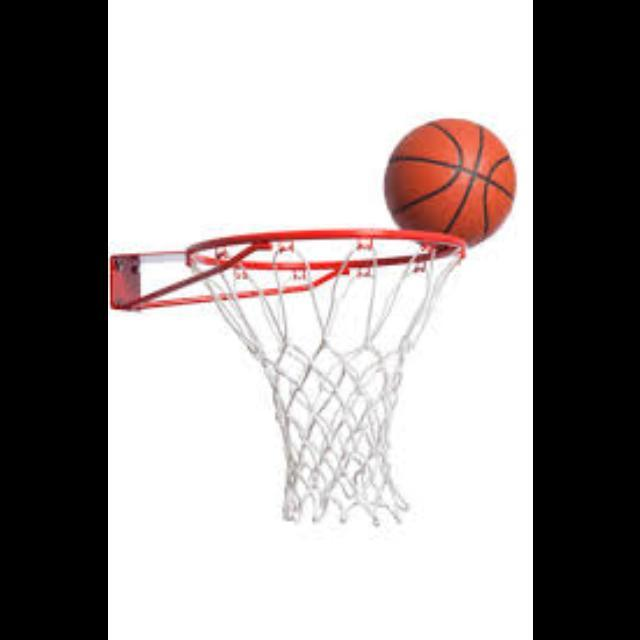basketball: (386, 120, 516, 248)
rim: (188, 228, 466, 526)
